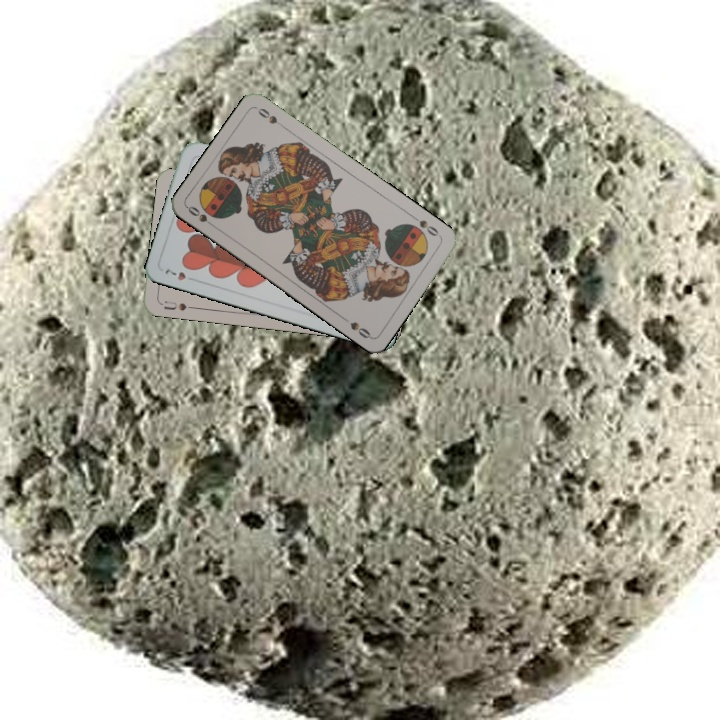H7: (161, 264, 199, 284)
SO: (184, 202, 219, 231), (408, 212, 444, 240)
SU: (157, 297, 198, 313)
